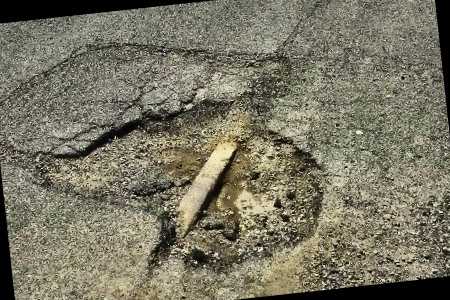pothole: (28, 83, 339, 294)
